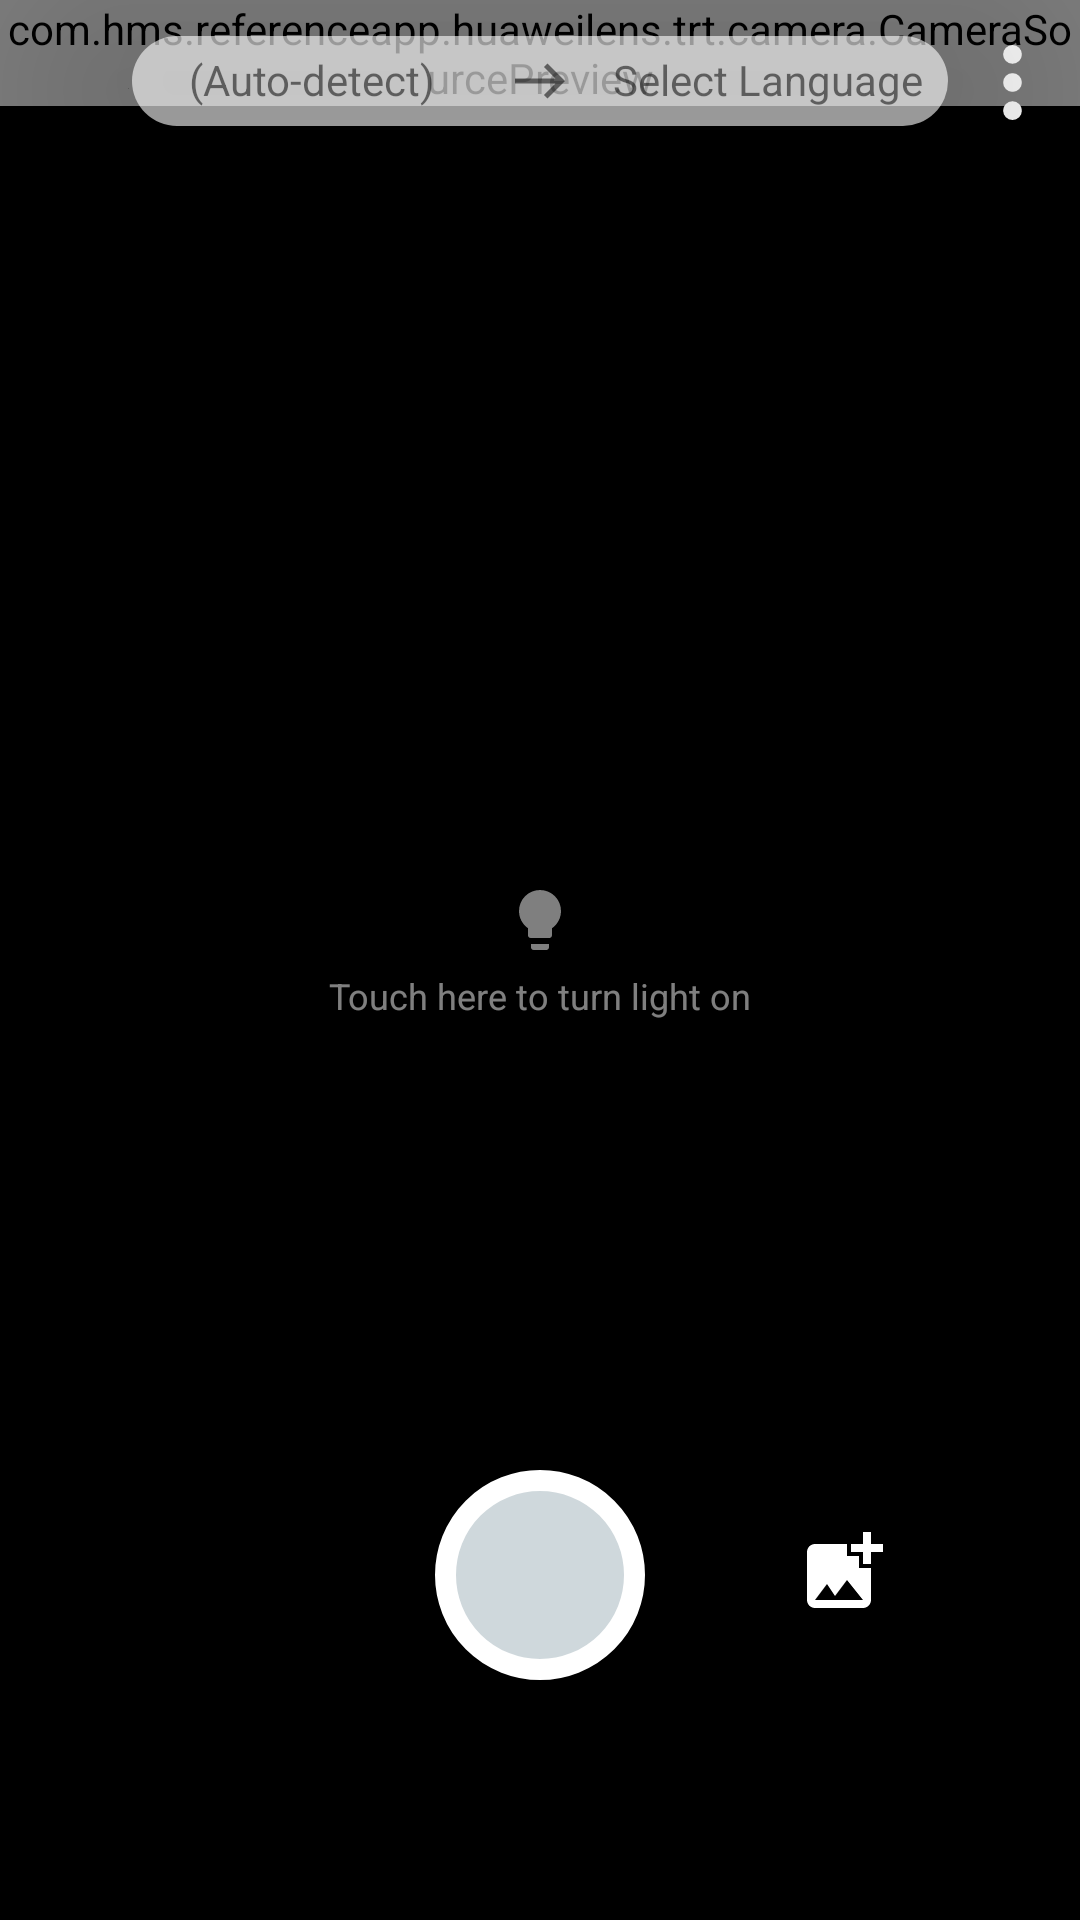

Point at icon controls on the screen. Image size 1080x1920, points as (x=x, y=y).
add photo: (x=845, y=1570)
arrow right trt: (x=540, y=81)
lightbulb: (x=540, y=920)
menu: (x=1012, y=82)
